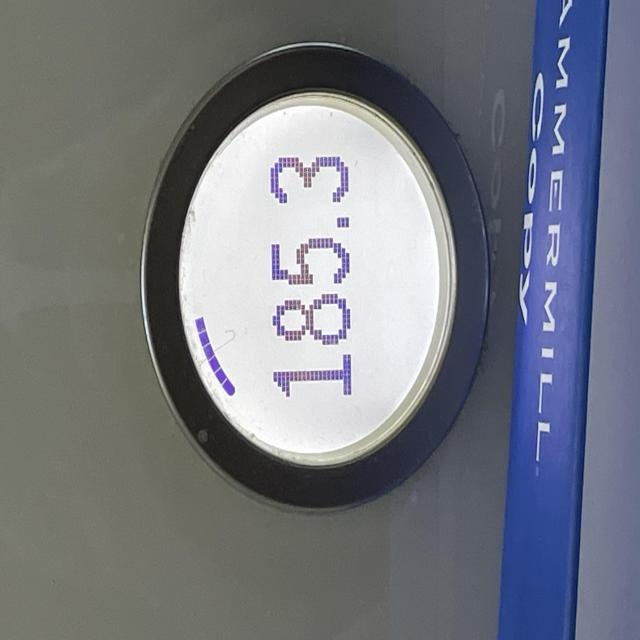ws: (139, 44, 492, 516)
